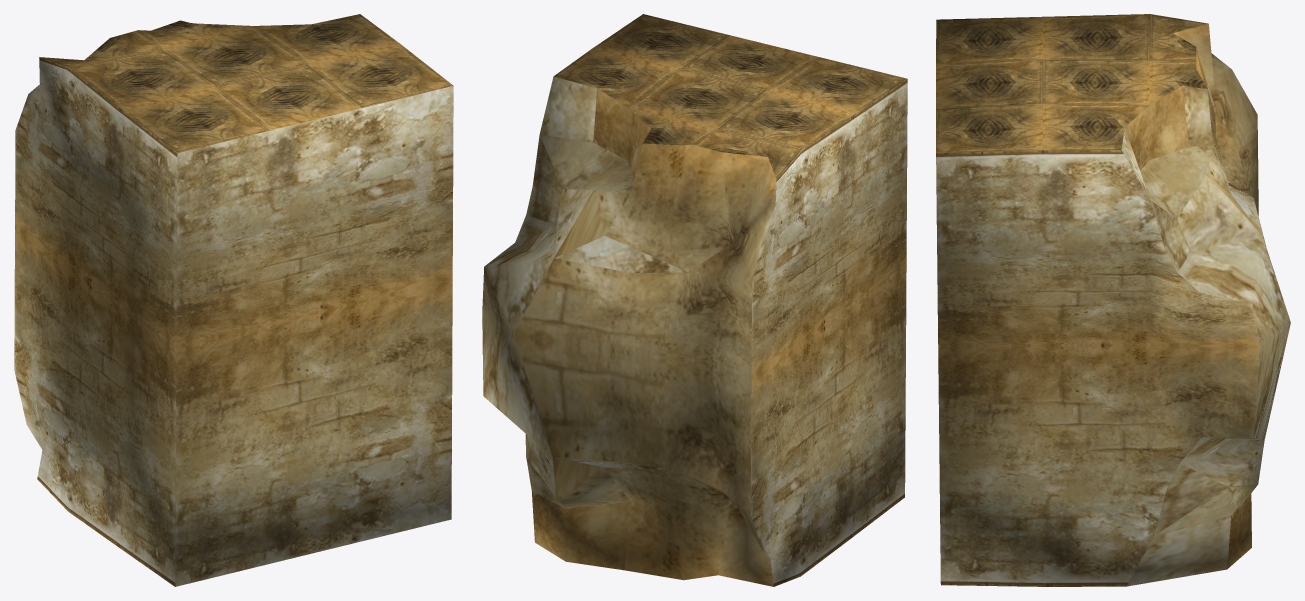
File: S_Build_Desert051.FBX
3 renders of one model, left to right at view 1: azimuth 30°, elevation 25°; view 2: azimuth 150°, elevation 25°; view 3: azimuth 270°, elevation 25°, orthographic. The views are drawn at different scales.
Visible parts, largest first — view 1: S_Build_Desert051; view 2: S_Build_Desert051; view 3: S_Build_Desert051.
Part boxes in pixels (bbox=[...]): S_Build_Desert051: bbox=[14, 14, 453, 586]; S_Build_Desert051: bbox=[482, 14, 907, 586]; S_Build_Desert051: bbox=[936, 14, 1290, 586].
Size of the model in its own units: 910 by 995 by 1366.
